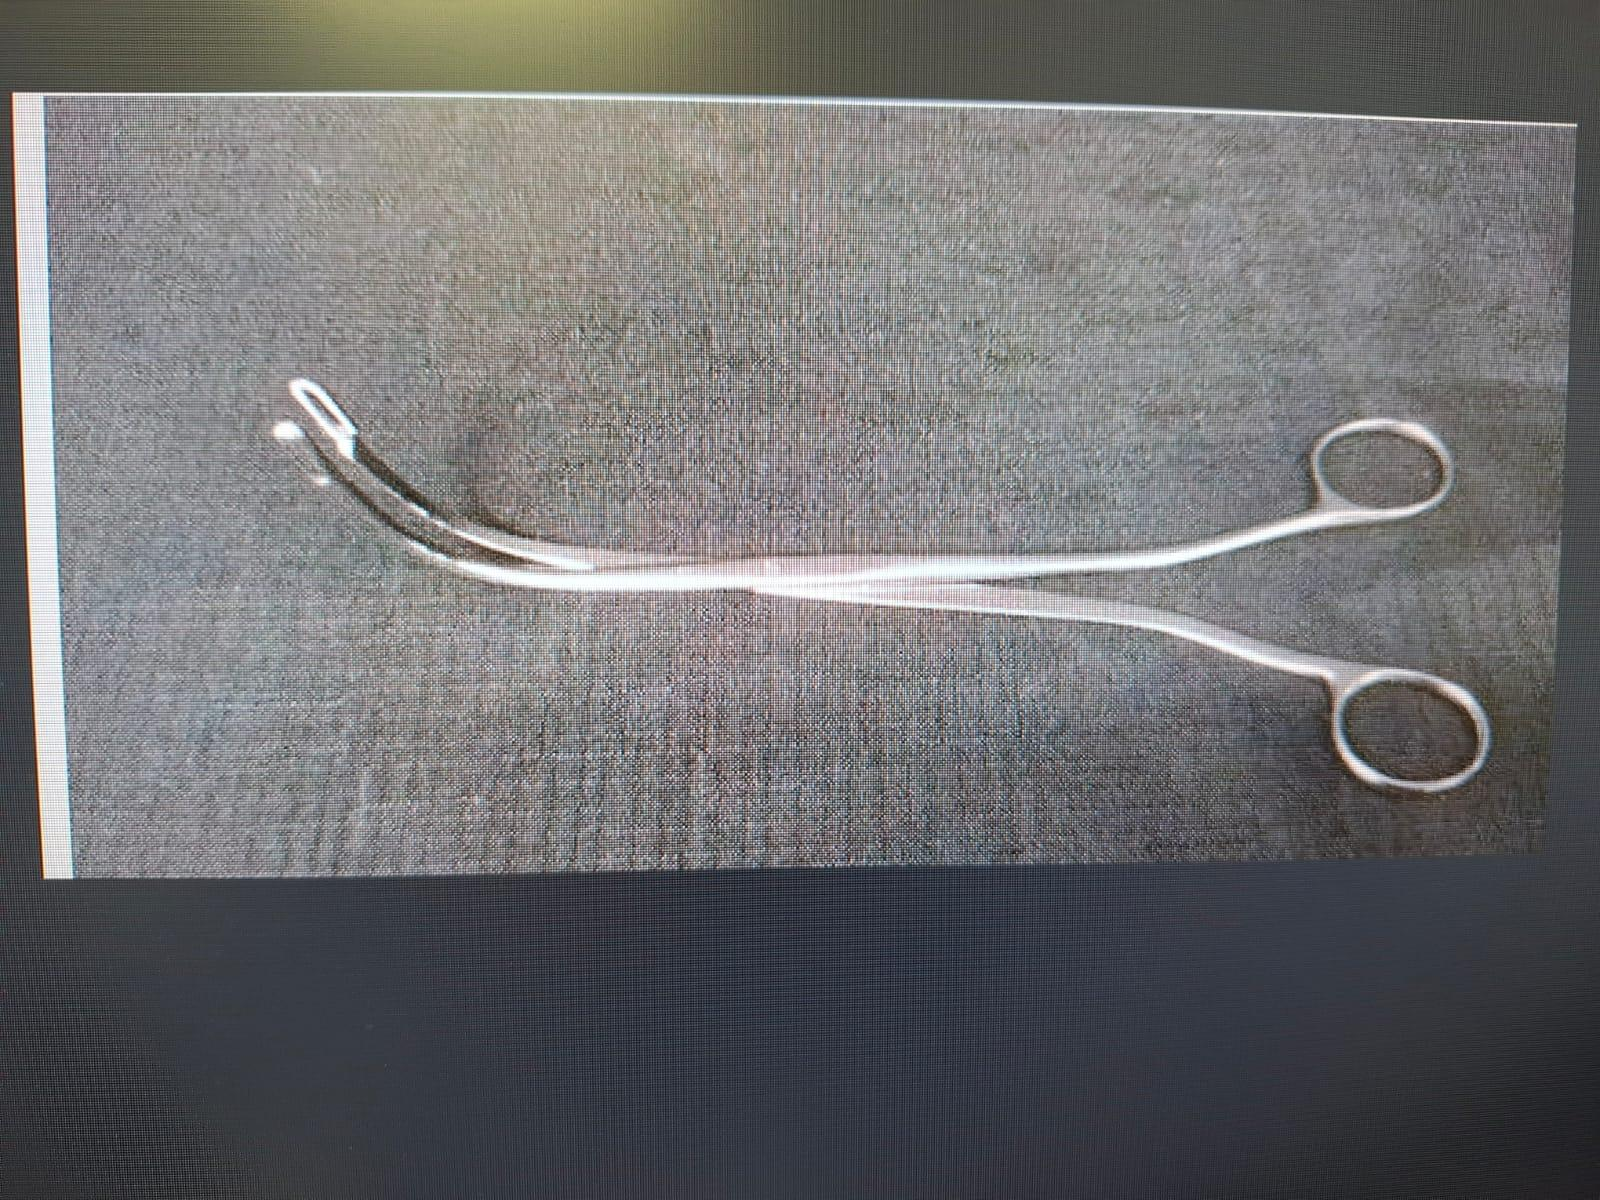Randall Forceps: (256, 340, 1504, 802)
